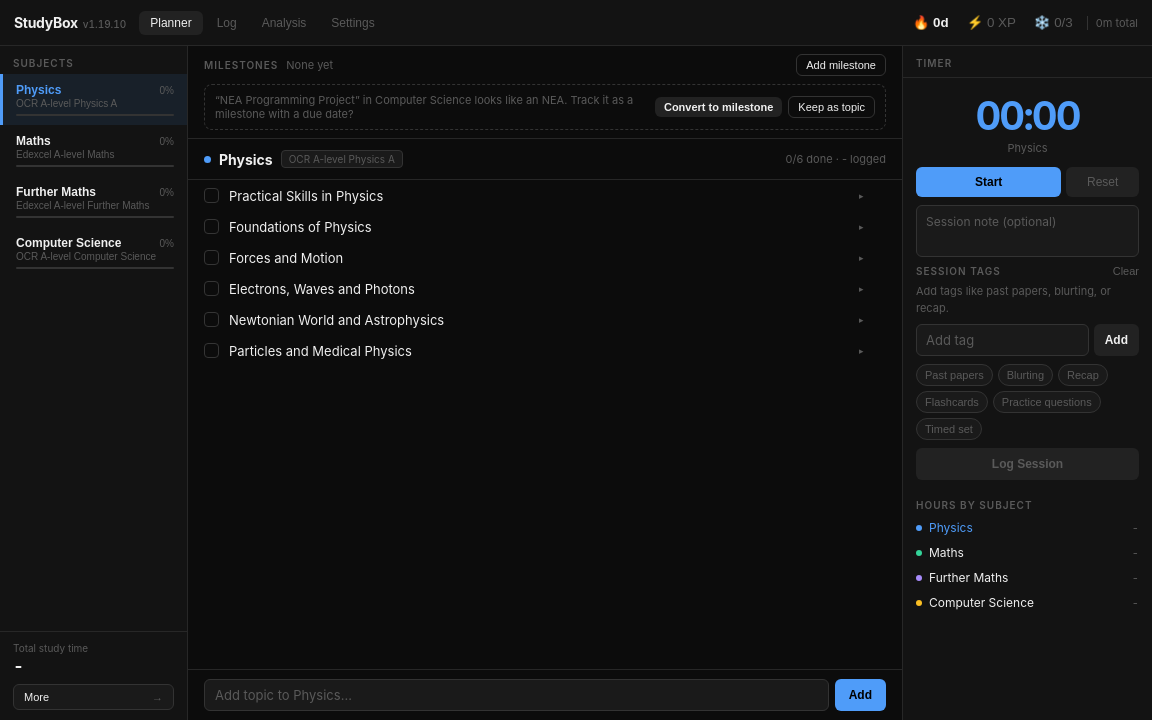
Settings › Asana integration › is off by default: no tab in the planner, opt-in framing in settings
Expected: the button "Asana" is not shown
Click the button "Settings" at (353, 22), box [320,10,386,34]
(page scrolled)
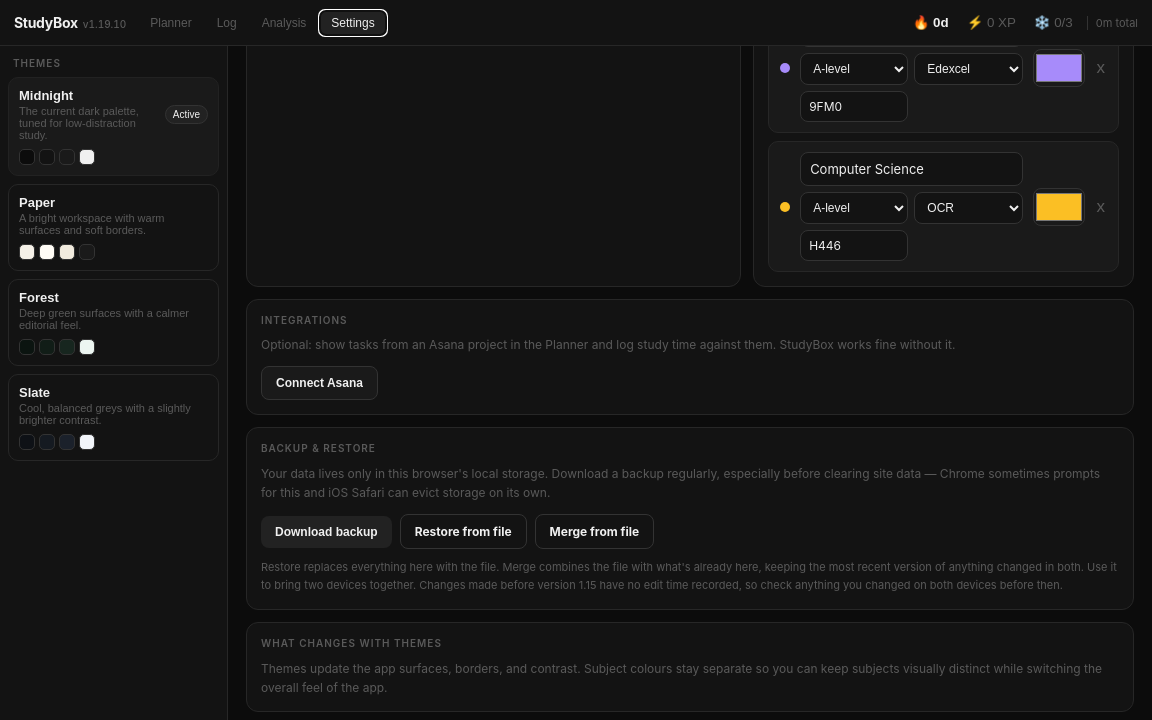
Result: the button "Connect Asana" is shown at [261,366,378,400]
